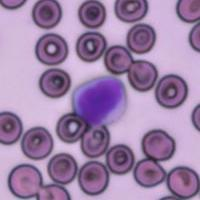M: (70, 74, 128, 129)
